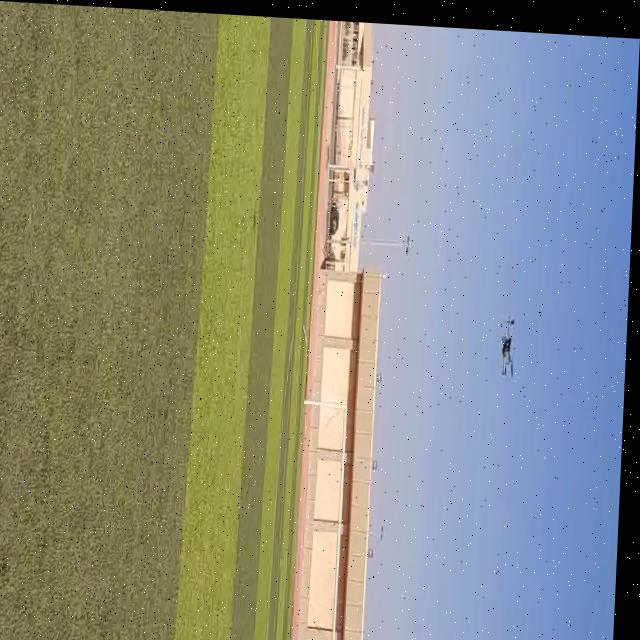drone: (500, 302, 524, 380)
